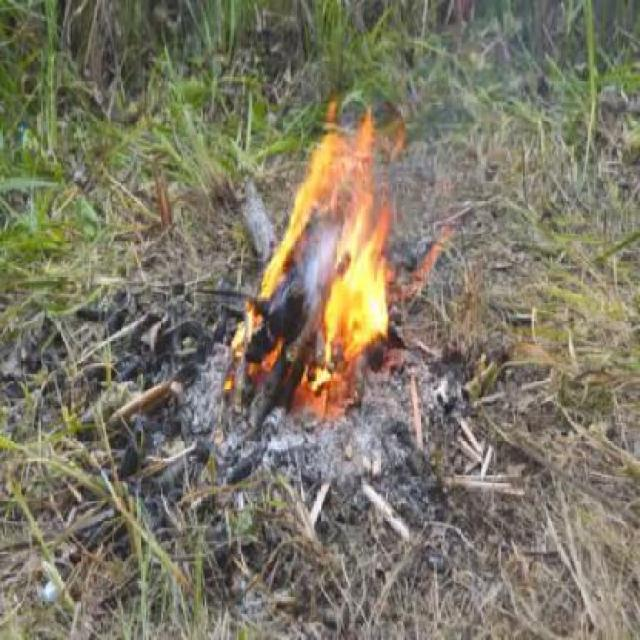Fire: (323, 108, 396, 360), (260, 138, 323, 293)
